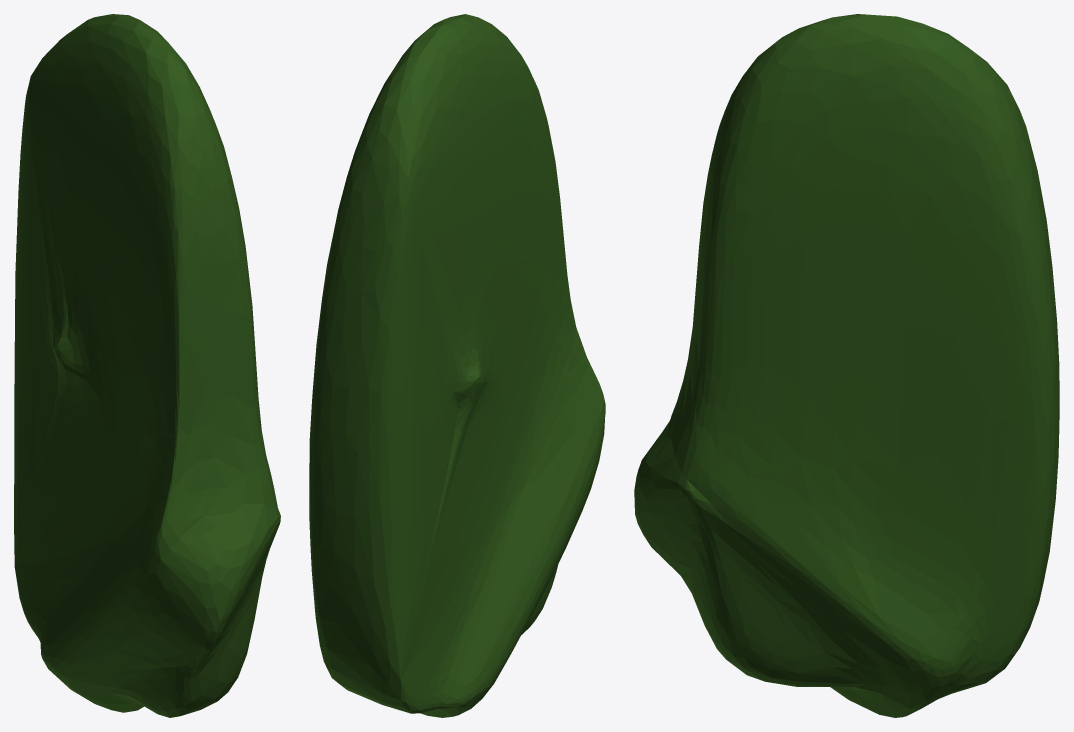
3 renders of one model, left to right at view 1: azimuth 30°, elevation 25°; view 2: azimuth 150°, elevation 25°; view 3: azimuth 270°, elevation 25°, orthographic. The views are drawn at different scales.
Visible parts, largest first — view 1: 540_Cube.2180; view 2: 540_Cube.2180; view 3: 540_Cube.2180.
Boxes of the visible parts, left/top/right/bottom form: 540_Cube.2180: left=14, top=14, right=280, bottom=717; 540_Cube.2180: left=309, top=14, right=605, bottom=717; 540_Cube.2180: left=634, top=14, right=1059, bottom=717.
Bounding box in the file's own units: 2.88 × 12.1 × 6.65.
